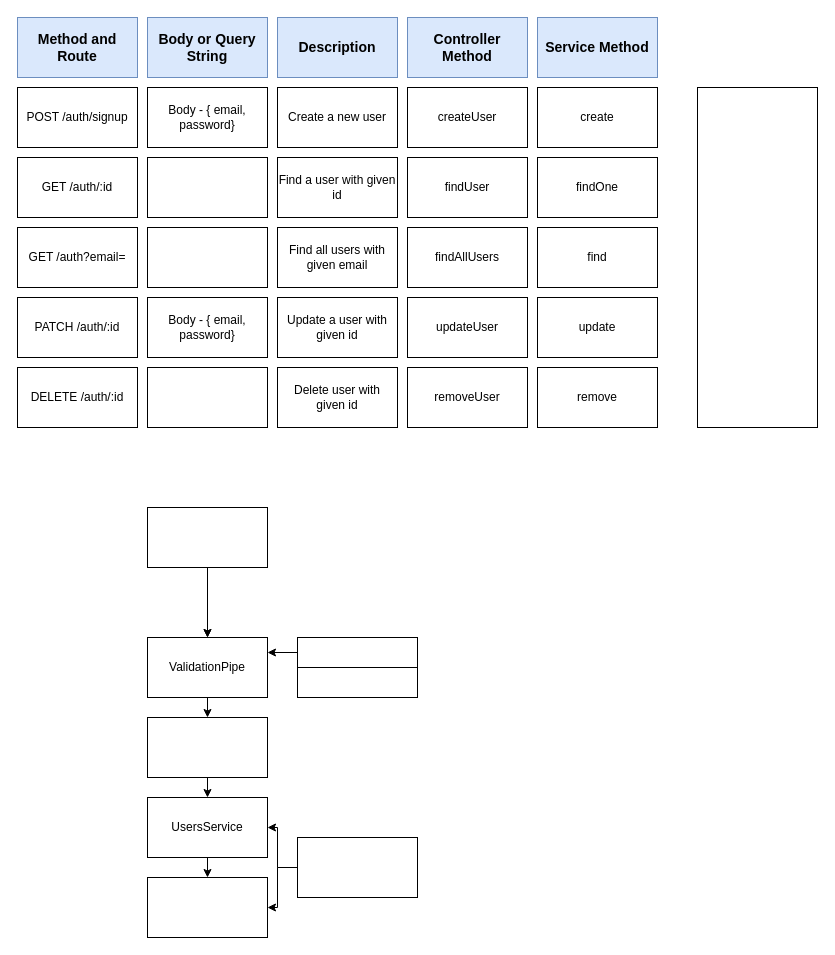
The diagram is 835 pixels wide and 955 high, and some of its shapes have lost their labels. The shapes that lost their labels are listed below. From the top down, each one's centre as x and y in pixels, then its label:
At [757,257]: "Users Repository".
At [207,537]: "REQUEST {email: 'asdf@asdf.com', password: 'asdf'}".
At [357,652]: "CreateUserDto".
At [357,682]: "email: string, password: string".
At [207,747]: "UsersController".
At [357,867]: "User Entity".
At [207,907]: "UsersRepository".
